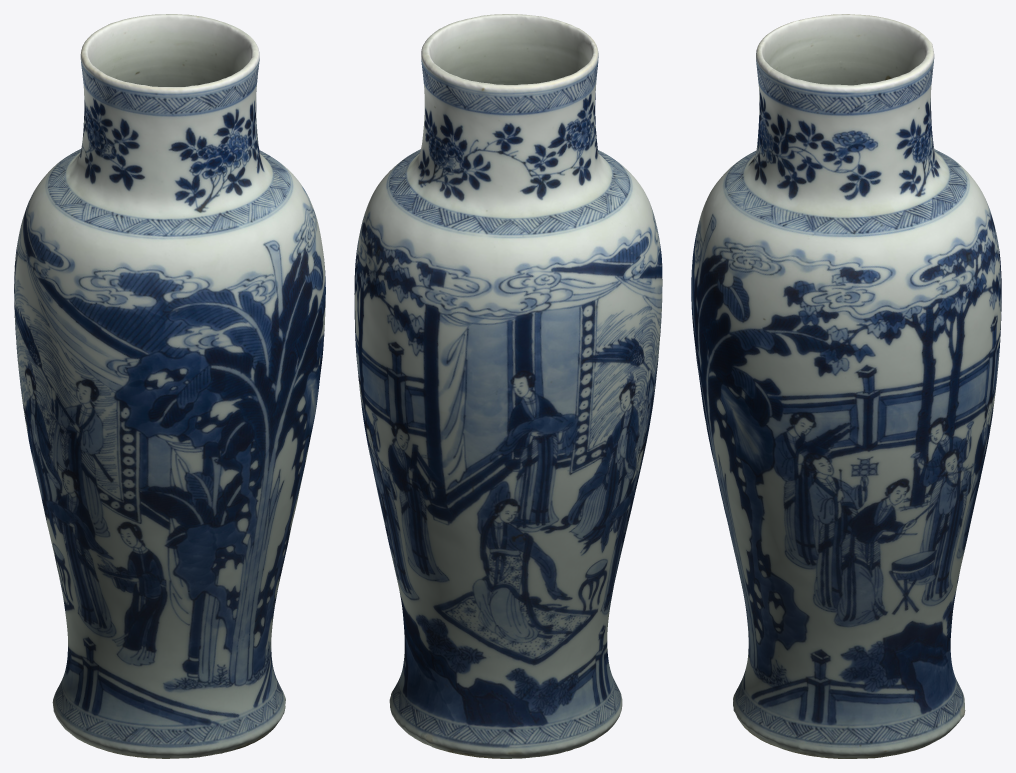
File: baluster_vase_from_a_five-piece_garniture.glb
The picture shows the model from 3 angles, left to right: view 1: azimuth 30°, elevation 25°; view 2: azimuth 150°, elevation 25°; view 3: azimuth 270°, elevation 25°; orthographic projection.
Parts seen in each view (by area): view 1: Object_4, Object_5; view 2: Object_4, Object_5; view 3: Object_4, Object_5.
Boxes of the visible parts, x1,y1,x2,y2 form: Object_4: [14, 14, 324, 758]; Object_5: [14, 14, 325, 758]; Object_4: [354, 14, 662, 758]; Object_5: [355, 14, 662, 755]; Object_4: [691, 14, 1001, 758]; Object_5: [691, 14, 1000, 757].
Bounding box in the file's own units: 0.1708 × 0.4053 × 0.1719.
Materials: 1 (1 with a texture image).
